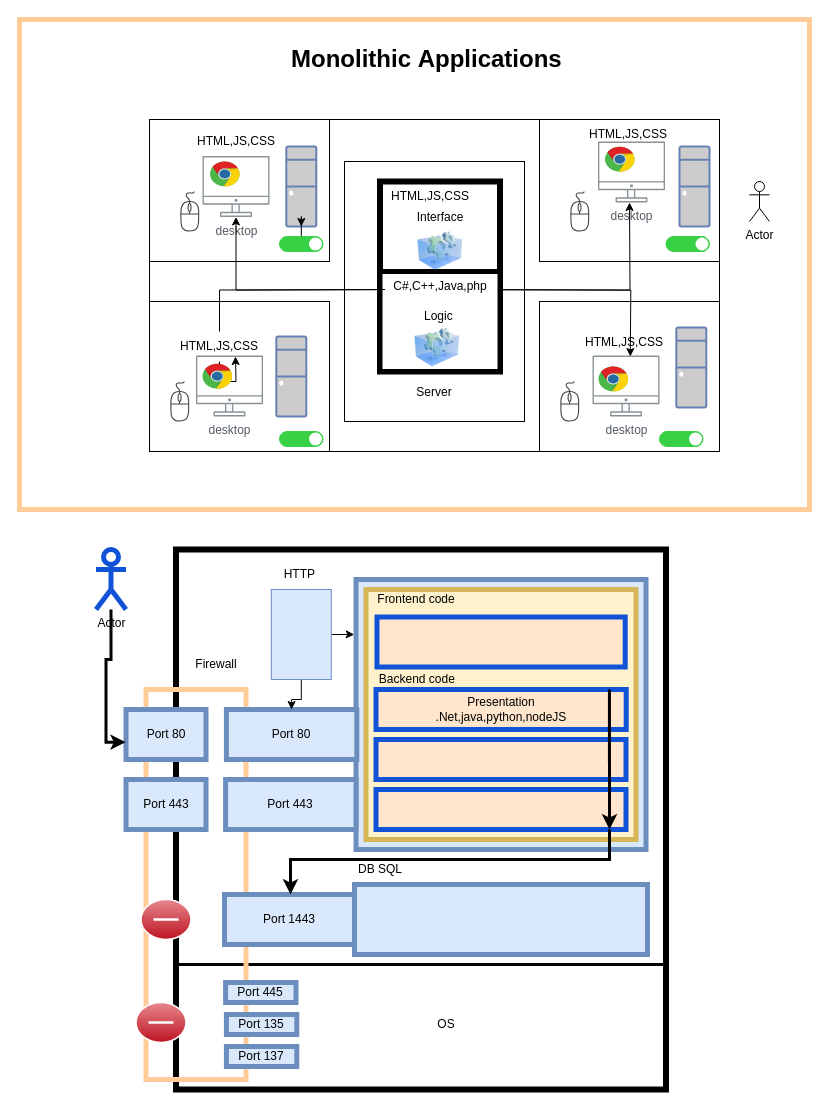
The diagram is 829 pixels wide and 1110 high, and some of its shapes have lost their labels. The box of each missing label's shape, as (x1, y1, x2, y2) in pixels:
Business Logic .Net,java,python,nodeJS: (373, 736, 628, 782)
Client Side Code HTML,Java Script,css: (374, 614, 627, 669)
Data Access .Net,java,python,nodeJS: (373, 786, 628, 832)
Database: (352, 882, 650, 956)
IIS Apache Tomcat WAS: (270, 588, 331, 680)
